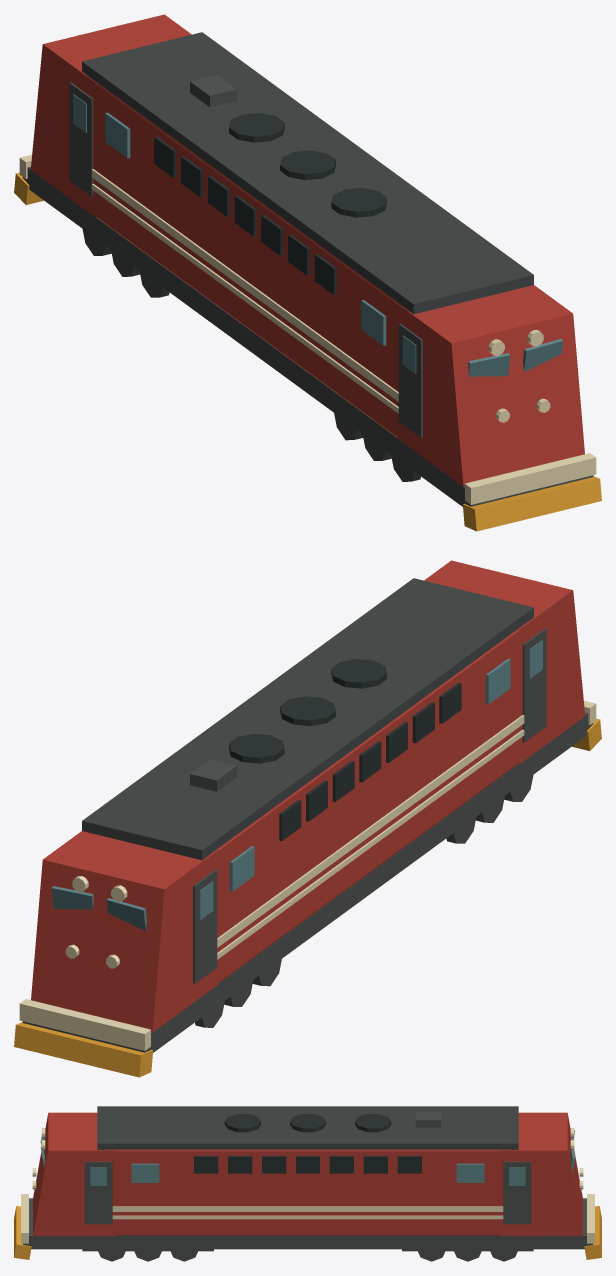
Rendered from nord-di-4_lod1.glb.
The picture shows the model from 3 angles, top to bottom: view 1: azimuth 30°, elevation 25°; view 2: azimuth 150°, elevation 25°; view 3: azimuth 270°, elevation 25°; orthographic projection. The views are drawn at different scales.
Parts seen in each view (by area): view 1: RF_Di4_Roof, RF_Di4_Body, RF_Di4_AngularCab.001, RF_Di4_Chassis, RF_Di4_AngularCab, RF_Di4_Plow.001, RF_Di4_CreamStripe.001, RF_Di4_BufferBeam.001, RF_Di4_CreamStripe.002, RF_Di4_CabDoor.001, RF_Di4_CabDoor.002, RF_Di4_RoofFan.001 (+12 smaller); view 2: RF_Di4_Roof, RF_Di4_Body, RF_Di4_AngularCab, RF_Di4_Chassis, RF_Di4_AngularCab.001, RF_Di4_Plow, RF_Di4_CreamStripe.001, RF_Di4_BufferBeam, RF_Di4_CreamStripe.002, RF_Di4_CabDoor.002, RF_Di4_CabDoor.001, RF_Di4_RoofFan (+12 smaller); view 3: RF_Di4_Body, RF_Di4_Roof, RF_Di4_Chassis, RF_Di4_AngularCab.001, RF_Di4_AngularCab, RF_Di4_CreamStripe.003, RF_Di4_CreamStripe, RF_Di4_CabDoor.003, RF_Di4_CabDoor, RF_Di4_SideWindow.003, RF_Di4_SideWindow, RF_Di4_RoofFan.001 (+22 smaller).
Boxes of the visible parts, box(x1,y1,x2,y2) form: RF_Di4_Roof: box(82, 32, 533, 314); RF_Di4_Body: box(86, 75, 409, 443); RF_Di4_AngularCab.001: box(397, 285, 584, 486); RF_Di4_Chassis: box(22, 166, 593, 506); RF_Di4_AngularCab: box(30, 14, 191, 217); RF_Di4_Plow.001: box(462, 476, 601, 531); RF_Di4_CreamStripe.001: box(91, 169, 398, 401); RF_Di4_BufferBeam.001: box(465, 453, 596, 504); RF_Di4_CreamStripe.002: box(91, 183, 398, 413); RF_Di4_CabDoor.001: box(398, 323, 422, 437); RF_Di4_CabDoor.002: box(69, 82, 93, 196); RF_Di4_RoofFan.001: box(331, 188, 386, 217); RF_Di4_Roof: box(82, 578, 533, 860); RF_Di4_Body: box(206, 621, 529, 989); RF_Di4_AngularCab: box(31, 831, 218, 1032); RF_Di4_Chassis: box(22, 712, 593, 1052); RF_Di4_AngularCab.001: box(424, 560, 585, 763); RF_Di4_Plow: box(14, 1022, 153, 1077); RF_Di4_CreamStripe.001: box(217, 715, 524, 947); RF_Di4_BufferBeam: box(19, 999, 150, 1050); RF_Di4_CreamStripe.002: box(217, 729, 524, 959); RF_Di4_CabDoor.002: box(193, 869, 217, 983); RF_Di4_CabDoor.001: box(522, 628, 546, 742); RF_Di4_RoofFan: box(229, 734, 284, 763); RF_Di4_Body: box(102, 1149, 513, 1235); RF_Di4_Roof: box(97, 1106, 518, 1149); RF_Di4_Chassis: box(23, 1198, 592, 1249); RF_Di4_AngularCab.001: box(33, 1112, 116, 1236); RF_Di4_AngularCab: box(499, 1112, 582, 1236); RF_Di4_CreamStripe.003: box(112, 1206, 503, 1211); RF_Di4_CreamStripe: box(112, 1215, 503, 1219); RF_Di4_CabDoor.003: box(84, 1161, 112, 1224); RF_Di4_CabDoor: box(503, 1161, 531, 1224); RF_Di4_SideWindow.003: box(131, 1163, 159, 1182); RF_Di4_SideWindow: box(456, 1163, 484, 1182); RF_Di4_RoofFan.001: box(224, 1114, 260, 1132).
Bounding box in the file's own units: 3.31 × 4.95 × 20.78.
